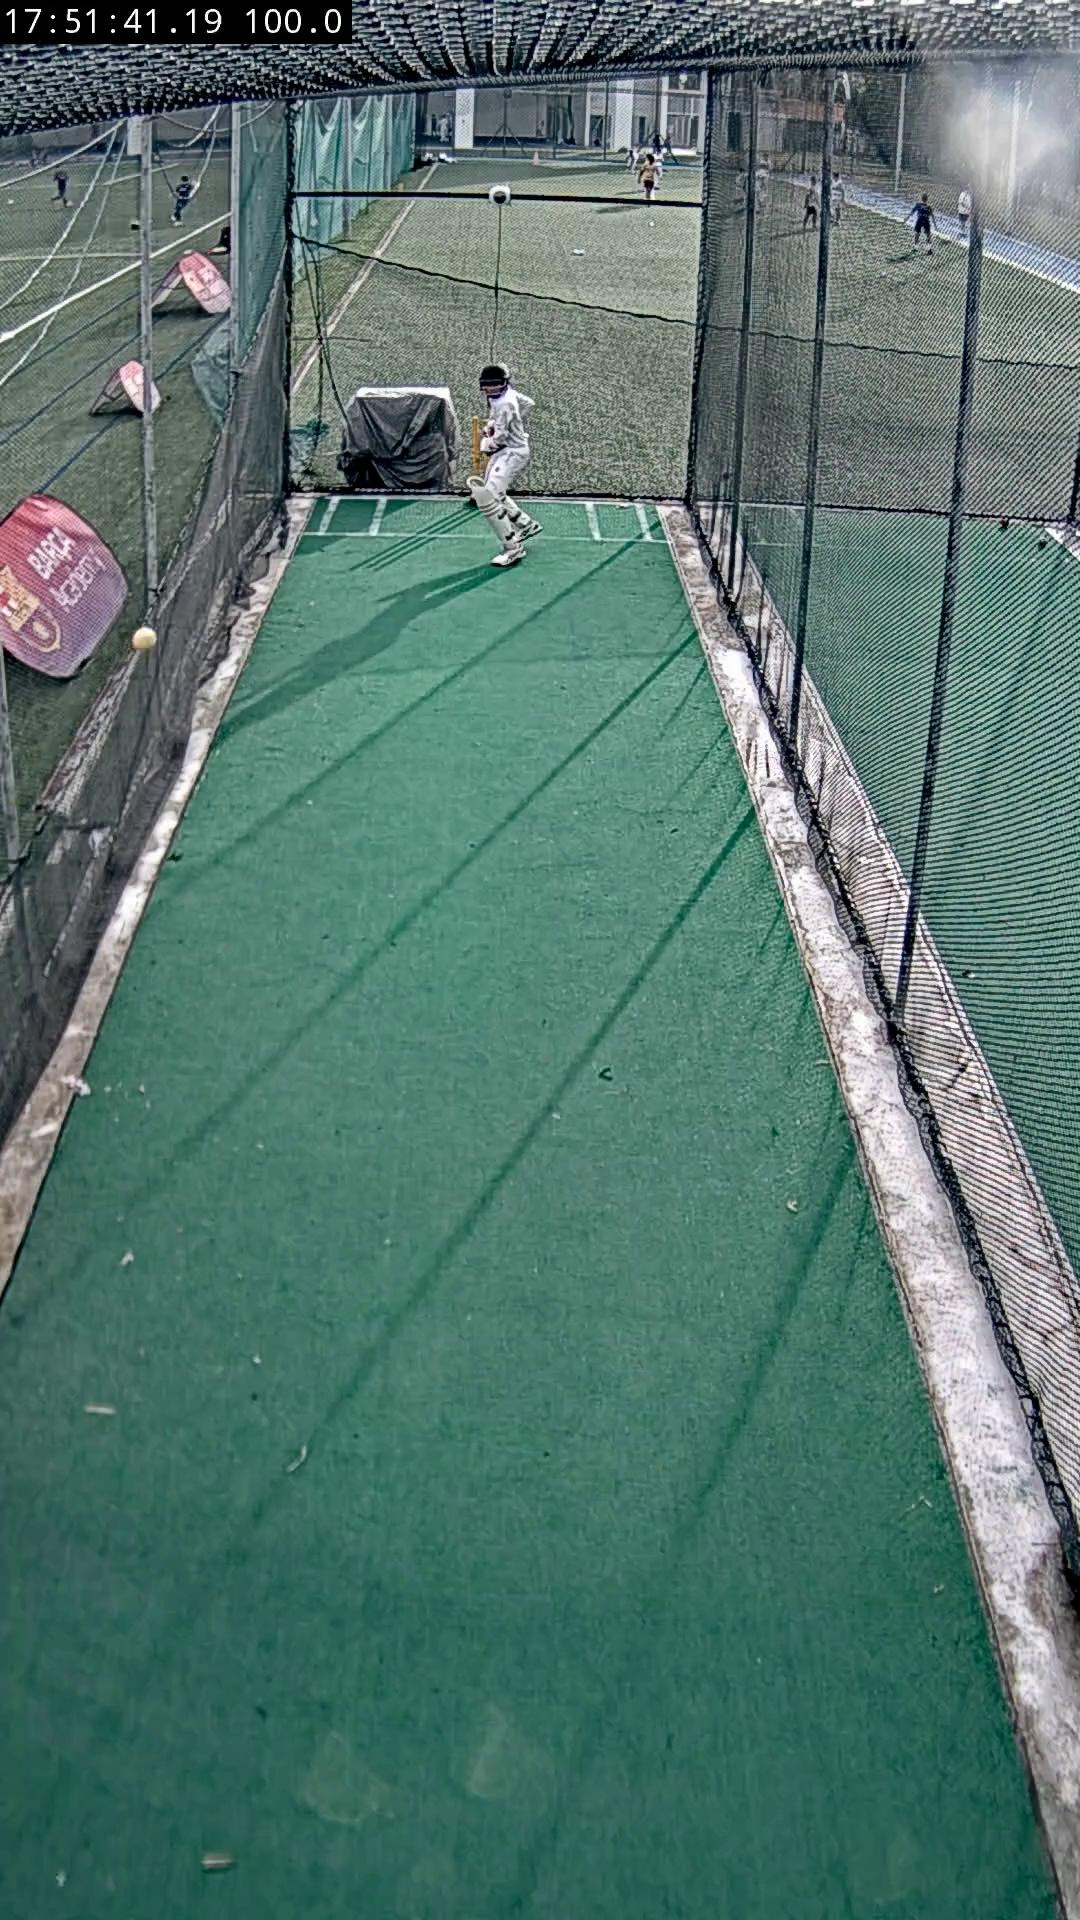ball: (132, 626, 157, 653)
gloves: (472, 419, 495, 452)
helmet: (480, 364, 510, 386)
pads: (468, 476, 514, 542)
stumps: (472, 417, 480, 475)
